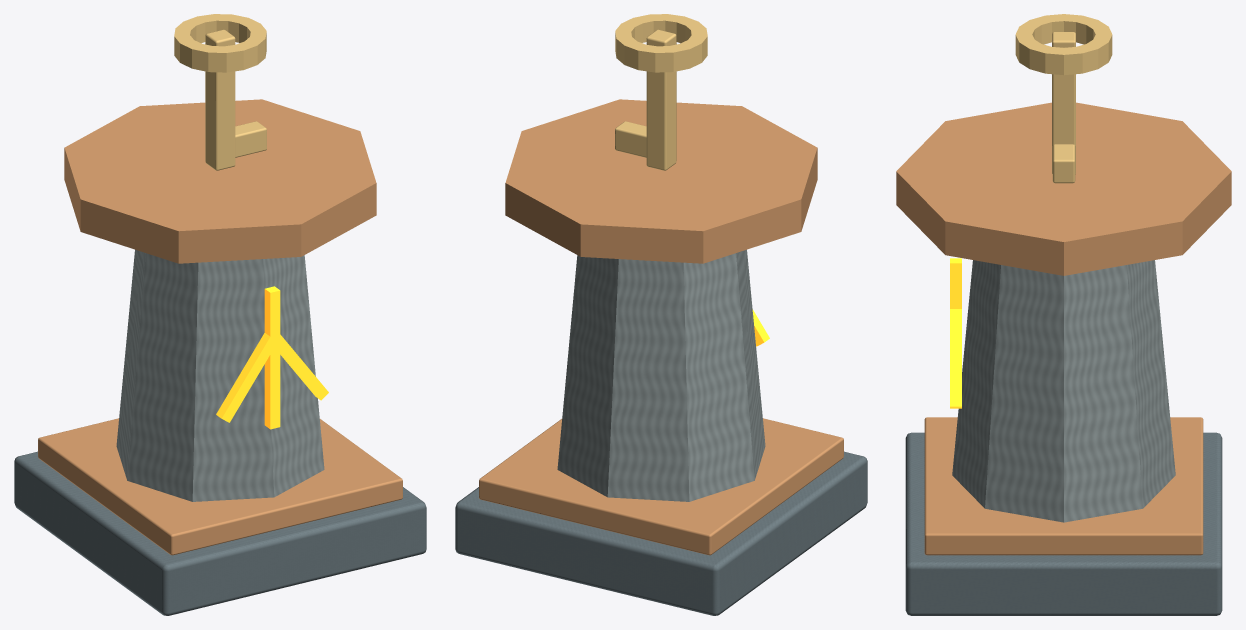
Rendered from dwarven-runeforge-dungeon-dwarven-runeforge-dungeon-ke-f0525f80__28610.glb.
3 views of the same model, side by side, from view 1: azimuth 30°, elevation 25°; view 2: azimuth 150°, elevation 25°; view 3: azimuth 270°, elevation 25° (orthographic). The views are drawn at different scales.
Parts seen in each view (by area): view 1: dwarven-runeforge-dungeon-key-pedestal; view 2: dwarven-runeforge-dungeon-key-pedestal; view 3: dwarven-runeforge-dungeon-key-pedestal.
Part boxes in pixels (x1,y1,x2,y2): dwarven-runeforge-dungeon-key-pedestal: (14,14,426,615); dwarven-runeforge-dungeon-key-pedestal: (455,14,867,615); dwarven-runeforge-dungeon-key-pedestal: (896,14,1231,615).
Size of the model in its own units: 0.9 by 1.53 by 0.9.
Materials: 5 (2 with a texture image).
